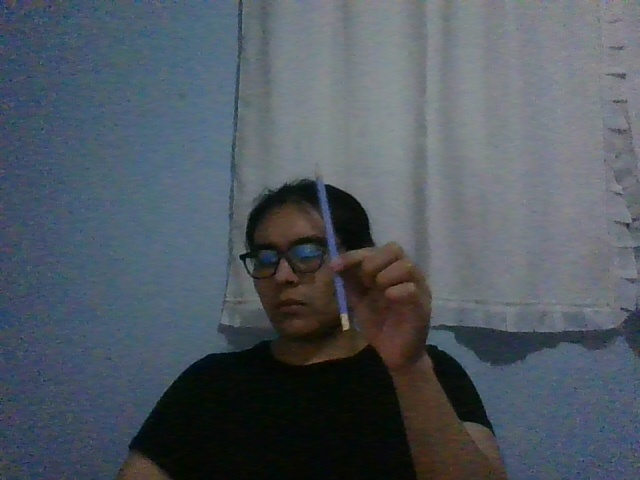lapiz: (315, 164, 352, 333)
